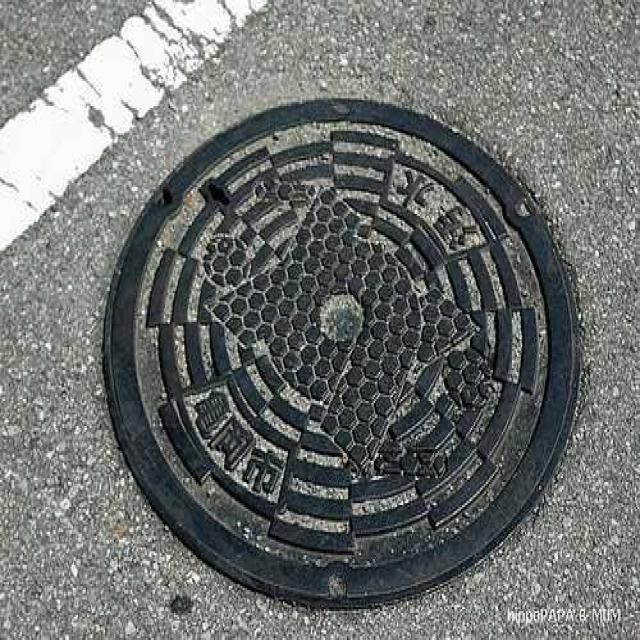manhole: (104, 100, 579, 607)
